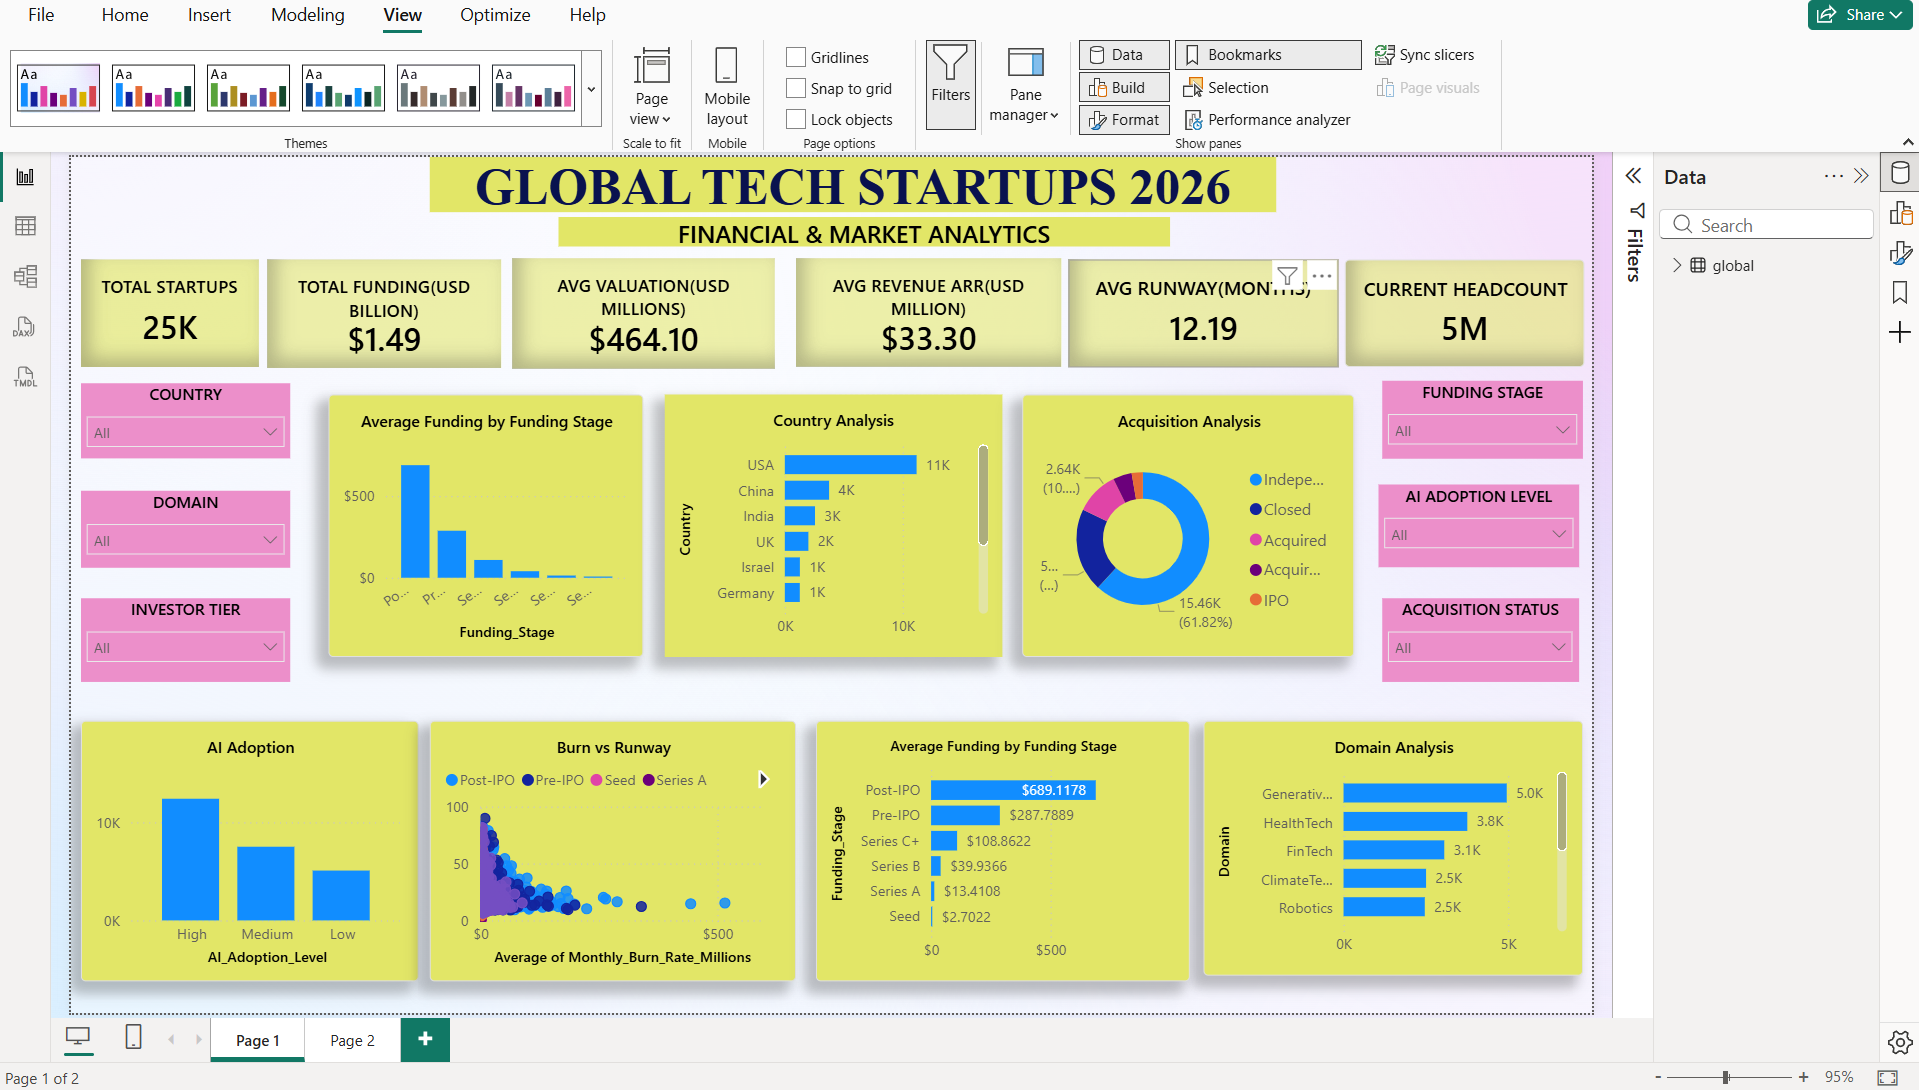

The page's visual inventory and layout, read from the dashboard file:
{"tool":"powerbi","page":{"name":"Page 1","canvas":[1280,720],"ordinal":0},"visuals":[{"type":"card","title":"TOTAL STARTUPS","fields":{"Values":["global.Total startups"]},"box":[8.4,86.2,149.3,90.4],"z":0},{"type":"card","title":"TOTAL FUNDING(USD BILLION)","fields":{"Values":["global.total Funding"]},"box":[165.1,86.2,196.6,91.5],"z":1000},{"type":"card","title":"AVG VALUATION(USD MILLIONS)","fields":{"Values":["global.Avg Valuation"]},"box":[371.1,85.2,220.8,92.5],"z":2000},{"type":"card","title":"AVG REVENUE ARR(USD MILLION)","fields":{"Values":["global.Avg Revenue ARR"]},"box":[609.8,85.2,222.9,91.5],"z":3000},{"type":"card","title":"AVG RUNWAY(MONTHS)","fields":{"Values":["global.Avg Runway"]},"box":[839,86.2,227.1,90.4],"z":4000},{"type":"card","title":"CURRENT HEADCOUNT","fields":{"Values":["global.Current Headcount"]},"box":[1071.4,86.2,201.9,90.4],"z":5000},{"type":"clusteredColumnChart","title":"Average Funding by Funding Stage","fields":{"Category":["global.Funding_Stage"],"Y":["Avg(global.Total_Funding_USD_Millions)"]},"box":[216.9,200.1,264.9,220.5],"z":6000},{"type":"barChart","title":"Domain Analysis","fields":{"Category":["global.Domain"],"Y":["CountNonNull(global.Company_ID)"]},"box":[952.8,474.6,318.8,214.5],"z":7000},{"type":"barChart","title":"Country Analysis","fields":{"Category":["global.Country"],"Y":["CountNonNull(global.Company_ID)"]},"box":[499.8,200.1,284,220.5],"z":8000},{"type":"columnChart","title":"AI Adoption","fields":{"Category":["global.AI_Adoption_Level"],"Y":["CountNonNull(global.Company_ID)"]},"box":[8.4,474.6,284,219.3],"z":9000},{"type":"scatterChart","title":"Burn vs Runway","fields":{"X":["Avg(global.Monthly_Burn_Rate_Millions)"],"Y":["Avg(global.Runway_Months_2024)"],"Series":["global.Funding_Stage"],"Category":["global.Company_ID"]},"box":[302,474.6,308,219.3],"z":10000},{"type":"shape","title":"GLOBAL TECH STARTUPS 2026","box":[302,0,711.9,46.7],"z":11000},{"type":"shape","title":"FINANCIAL & MARKET ANALYTICS","box":[409.9,50.3,514.2,25.2],"z":12000},{"type":"clusteredBarChart","title":"Average Funding by Funding Stage","fields":{"Y":["Avg(global.Total_Funding_USD_Millions)"],"Category":["global.Funding_Stage"]},"box":[626.8,474.6,314,219.3],"z":13000},{"type":"donutChart","title":"Acquisition Analysis","fields":{"Category":["global.Acquisition_Status"],"Y":["CountNonNull(global.Company_ID)"]},"box":[800.6,200.1,279.3,220.5],"z":14000},{"type":"slicer","title":"COUNTRY","fields":{"Values":["global.Country"]},"box":[8.4,190.6,176.2,63.5],"z":15000},{"type":"slicer","title":"FUNDING STAGE","fields":{"Values":["global.Funding_Stage"]},"box":[1102.6,188.2,169,65.9],"z":16000},{"type":"slicer","title":"DOMAIN","fields":{"Values":["global.Domain"]},"box":[8.4,280.4,176.2,64.7],"z":17000},{"type":"slicer","title":"AI ADOPTION LEVEL","fields":{"Values":["global.AI_Adoption_Level"]},"box":[1100.2,275.7,169,69.5],"z":18000},{"type":"slicer","title":"INVESTOR TIER","fields":{"Values":["global.Investor_Tier"]},"box":[8.4,371.5,176.2,70.7],"z":19000},{"type":"slicer","title":"ACQUISITION STATUS","fields":{"Values":["global.Acquisition_Status"]},"box":[1102.6,371.5,165.4,70.7],"z":20000}]}

Visuals, with their boxes on the page's 1280x720 design canvas (x1, y1, x2, y2). These are canvas units, not pixel positions in the 1919x1090 screenshot, which may show the page scaled, cropped or inside an application window:
"TOTAL STARTUPS" card: box(8, 86, 158, 177)
"TOTAL FUNDING(USD BILLION)" card: box(165, 86, 362, 178)
"AVG VALUATION(USD MILLIONS)" card: box(371, 85, 592, 178)
"AVG REVENUE ARR(USD MILLION)" card: box(610, 85, 833, 177)
"AVG RUNWAY(MONTHS)" card: box(839, 86, 1066, 177)
"CURRENT HEADCOUNT" card: box(1071, 86, 1273, 177)
"Average Funding by Funding Stage" clusteredColumnChart: box(217, 200, 482, 421)
"Domain Analysis" barChart: box(953, 475, 1272, 689)
"Country Analysis" barChart: box(500, 200, 784, 421)
"AI Adoption" columnChart: box(8, 475, 292, 694)
"Burn vs Runway" scatterChart: box(302, 475, 610, 694)
"GLOBAL TECH STARTUPS 2026" shape: box(302, 0, 1014, 47)
"FINANCIAL & MARKET ANALYTICS" shape: box(410, 50, 924, 76)
"Average Funding by Funding Stage" clusteredBarChart: box(627, 475, 941, 694)
"Acquisition Analysis" donutChart: box(801, 200, 1080, 421)
"COUNTRY" slicer: box(8, 191, 185, 254)
"FUNDING STAGE" slicer: box(1103, 188, 1272, 254)
"DOMAIN" slicer: box(8, 280, 185, 345)
"AI ADOPTION LEVEL" slicer: box(1100, 276, 1269, 345)
"INVESTOR TIER" slicer: box(8, 372, 185, 442)
"ACQUISITION STATUS" slicer: box(1103, 372, 1268, 442)
